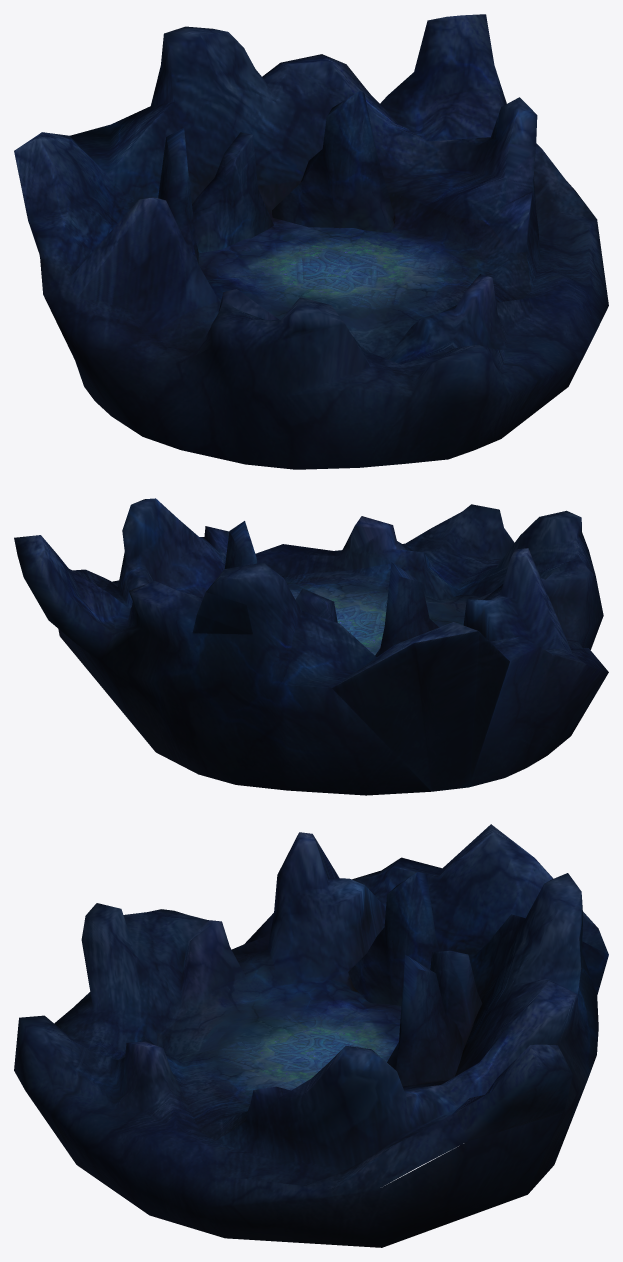
The model's file is T1-Ground.fbx.
The picture shows the model from 3 angles, top to bottom: view 1: azimuth 30°, elevation 25°; view 2: azimuth 150°, elevation 25°; view 3: azimuth 270°, elevation 25°; orthographic projection. The views are drawn at different scales.
Parts seen in each view (by area): view 1: Ground; view 2: Ground; view 3: Ground.
Part boxes in pixels (x1,y1,x2,y2): Ground: [14, 14, 608, 469]; Ground: [14, 498, 608, 795]; Ground: [14, 824, 608, 1247].
Size of the model in its own units: 532 by 231 by 501.
Materials: 1 (1 with a texture image).
